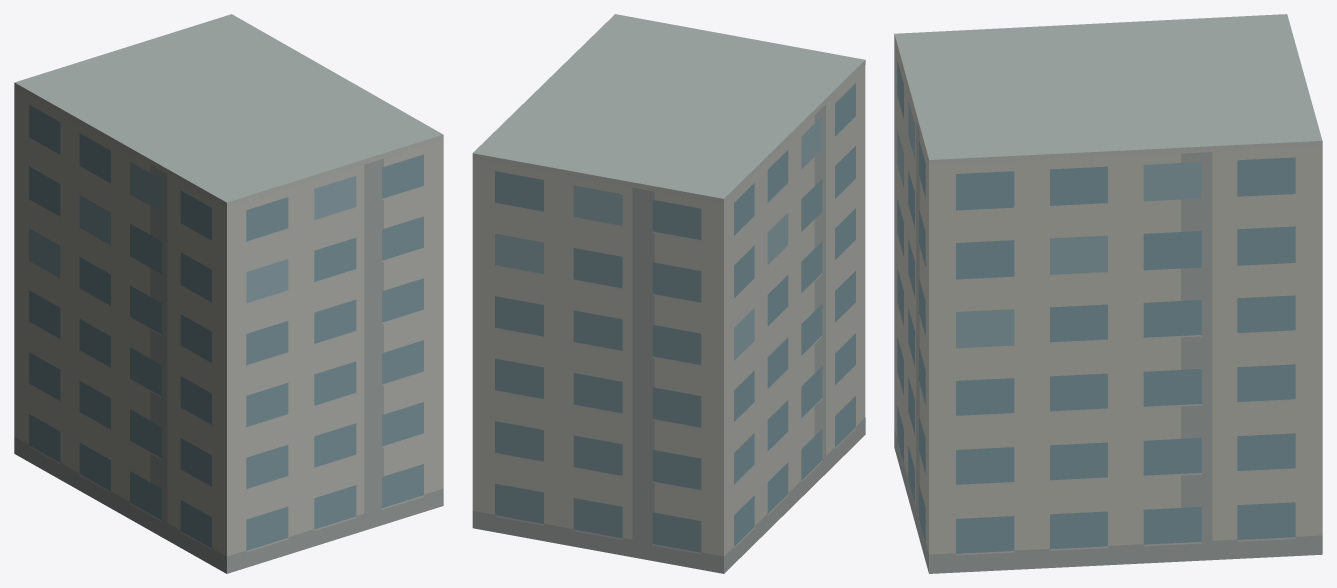
The model's file is survey-upis-32841376.glb.
3 views of the same model, side by side, from view 1: azimuth 30°, elevation 25°; view 2: azimuth 150°, elevation 25°; view 3: azimuth 270°, elevation 25° (orthographic). The views are drawn at different scales.
Parts seen in each view (by area): view 1: survey-upis-32841376.tmp; view 2: survey-upis-32841376.tmp; view 3: survey-upis-32841376.tmp.
Part boxes in pixels (bbox=[...]): survey-upis-32841376.tmp: bbox=[14, 14, 443, 573]; survey-upis-32841376.tmp: bbox=[472, 14, 865, 573]; survey-upis-32841376.tmp: bbox=[894, 14, 1322, 573].
Size of the model in its own units: 13.17 by 17.4 by 16.32.
